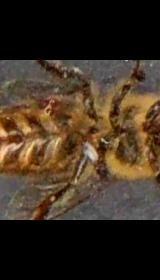varroa_mite: (38, 99, 58, 116)
